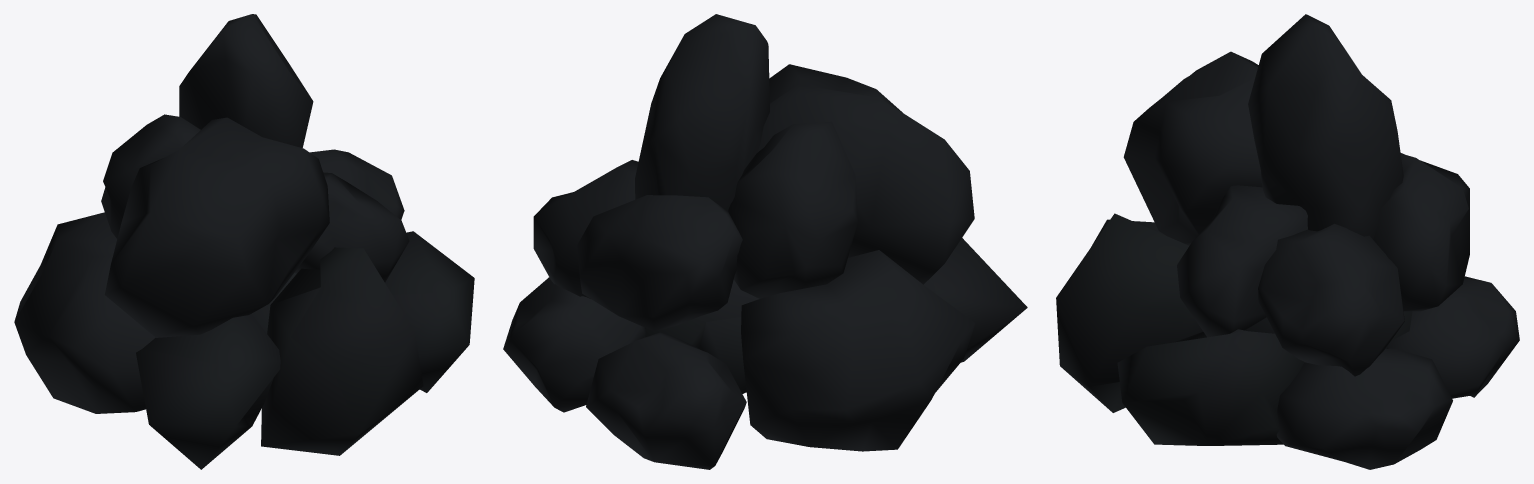
The model's file is coal-hill.fbx.
3 views of the same model, side by side, from view 1: azimuth 30°, elevation 25°; view 2: azimuth 150°, elevation 25°; view 3: azimuth 270°, elevation 25° (orthographic). The views are drawn at different scales.
Parts seen in each view (by area): view 1: coal-hill; view 2: coal-hill; view 3: coal-hill.
Boxes of the visible parts, x1,y1,x2,y2 form: coal-hill: (14,14,474,469); coal-hill: (503,14,1027,469); coal-hill: (1056,14,1519,469).
Bounding box in the file's own units: 144 × 132 × 142.
1 material, 1 textured.
